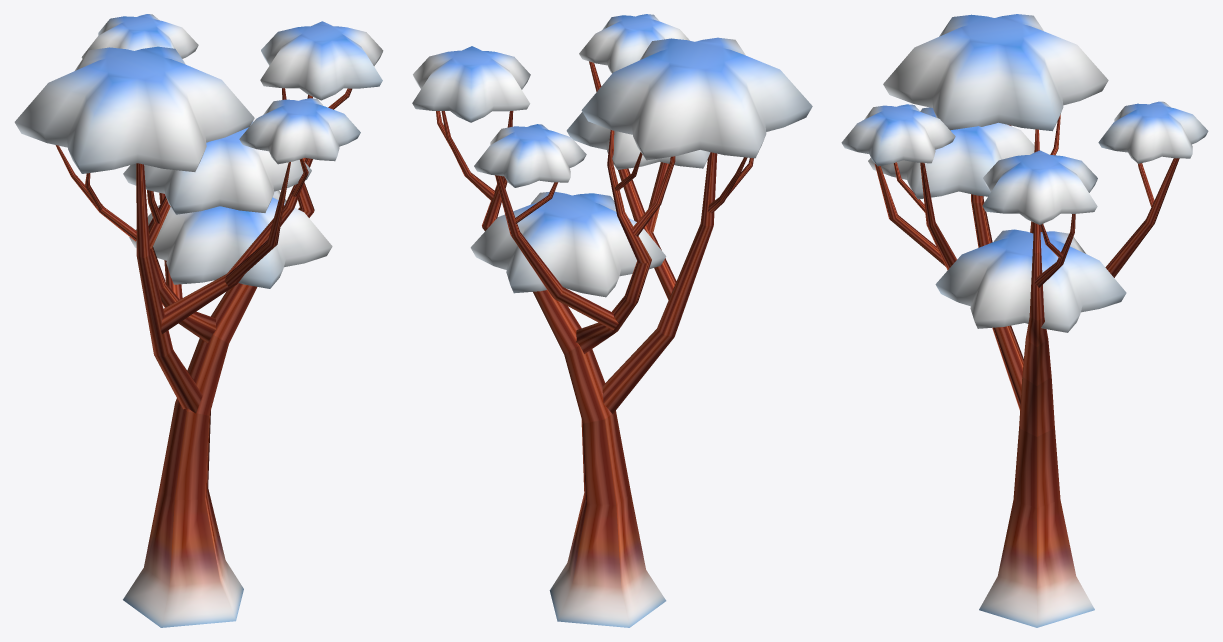
Rendered from Object_Tree2.FBX.
3 renders of one model, left to right at view 1: azimuth 30°, elevation 25°; view 2: azimuth 150°, elevation 25°; view 3: azimuth 270°, elevation 25°, orthographic. The views are drawn at different scales.
Parts seen in each view (by area): view 1: Tree; view 2: Tree; view 3: Tree.
Part boxes in pixels (x1=…): Tree: x1=14, y1=14, x2=383, y2=627; Tree: x1=412, y1=14, x2=812, y2=627; Tree: x1=841, y1=14, x2=1208, y2=627.
Bounding box in the file's own units: 81.57 × 122 × 75.76.
